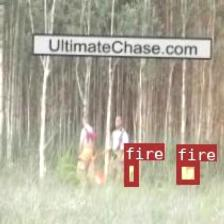fire: (176, 161, 198, 184), (124, 160, 137, 185)
